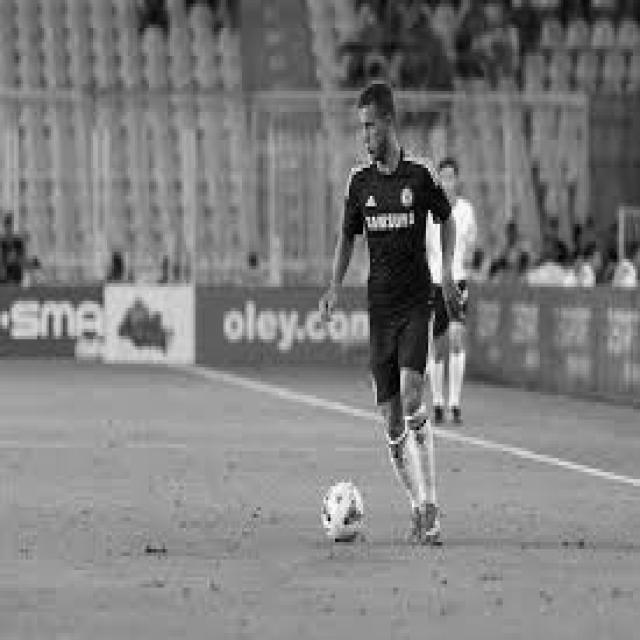football: (320, 480, 367, 545)
